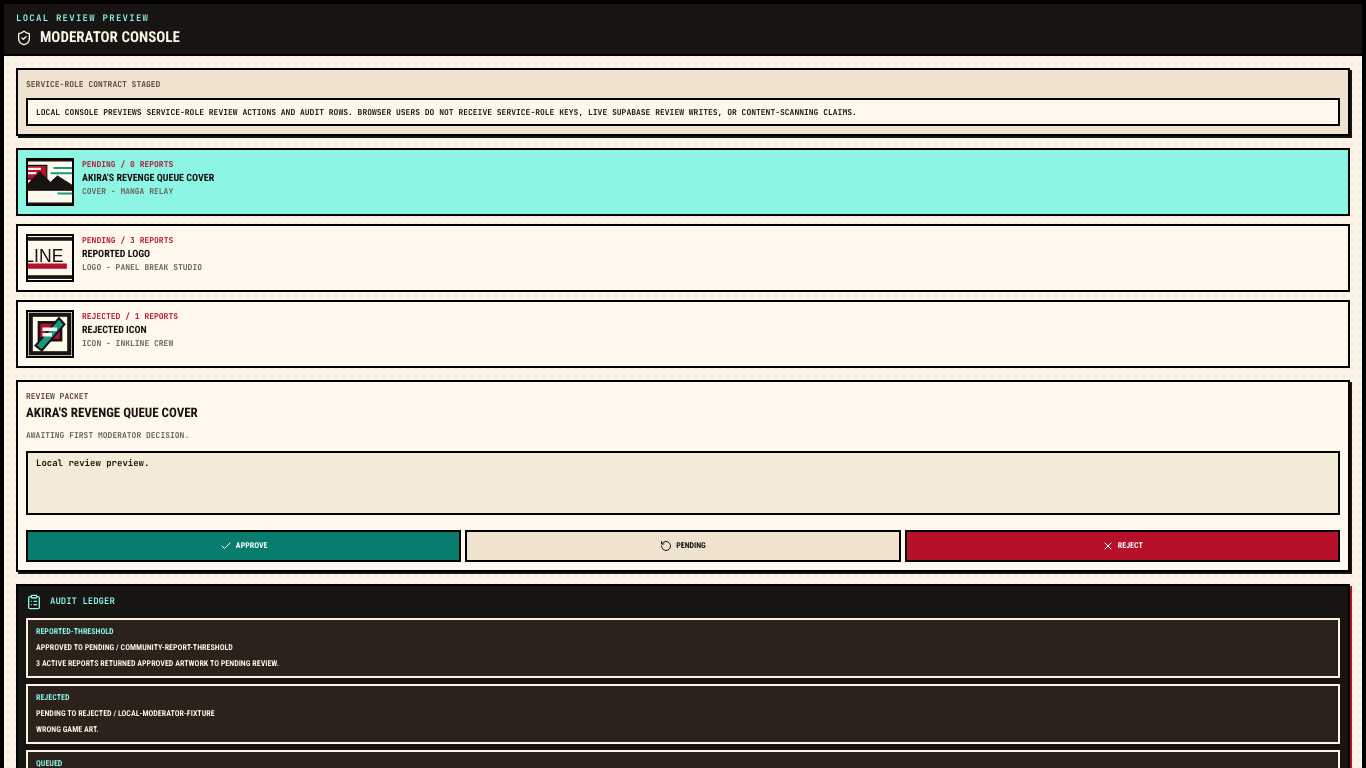
Scenario: HostedCommunityArtworkModeratorConsolePanel › previews approve actions by updating status and audit evidence
Replace the text in the text box named "hosted artwork review note" with "Looks correct." at (683, 482), box [26, 450, 1340, 514]
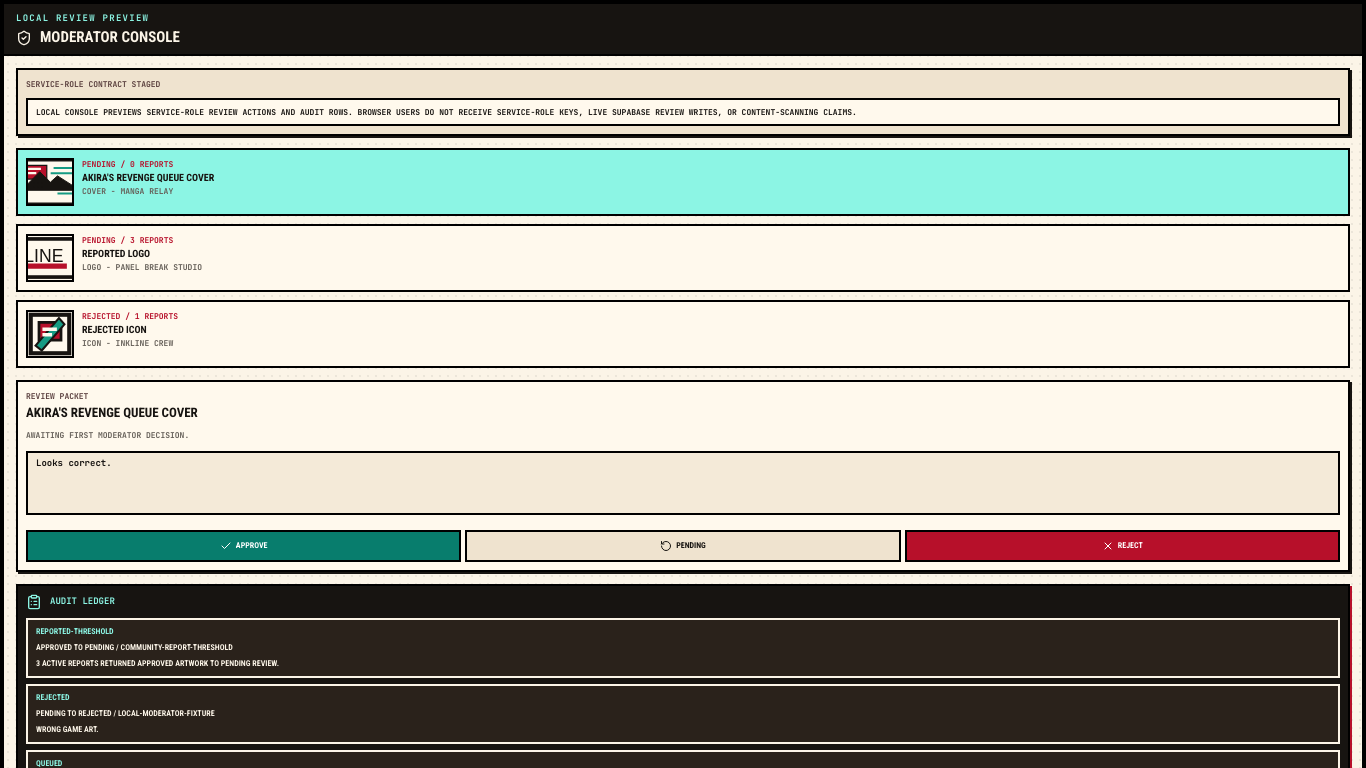
Click the button "Approve".
click(244, 546)  # box [26, 530, 461, 562]
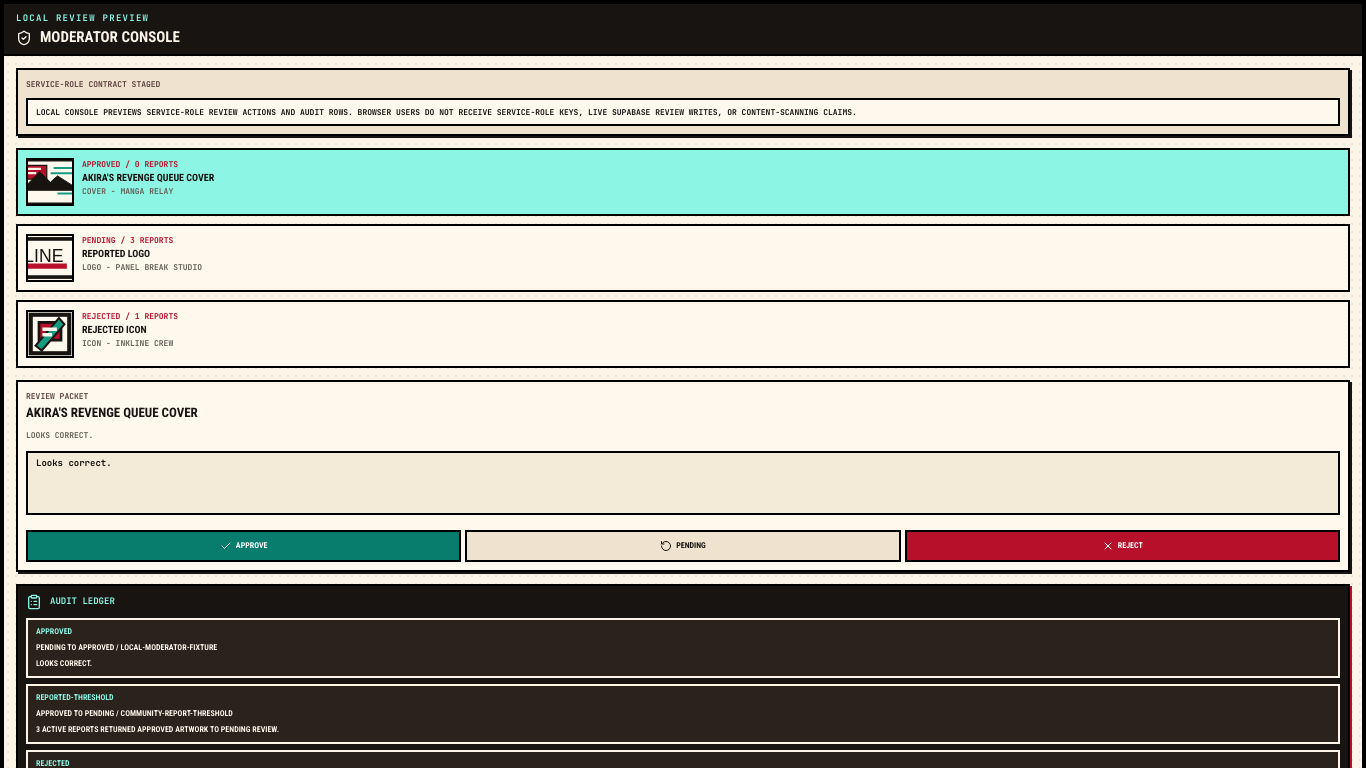
Result: the text "approved" is shown at [36, 626, 72, 636]
Result: the text "Looks correct." below "Audit Ledger" is shown at [36, 658, 92, 668]
Result: the text "approved / 0 Reports" is shown at [82, 158, 178, 168]
